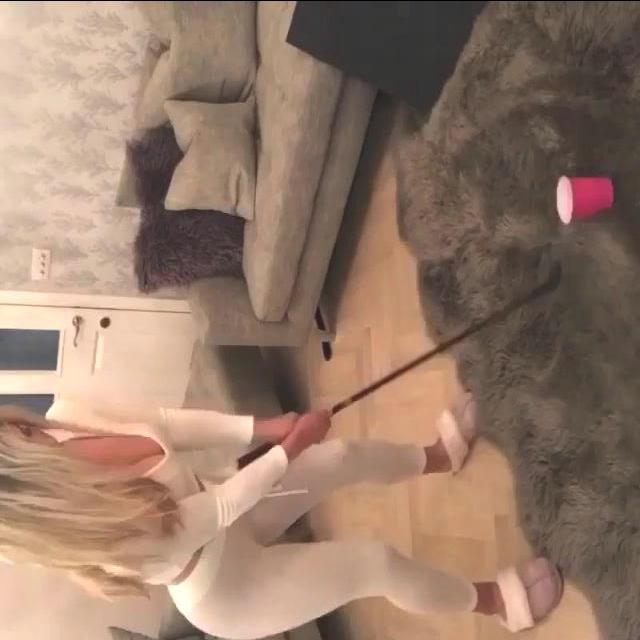golf club-handle: (234, 251, 568, 472)
golf club-head: (548, 255, 564, 285)
